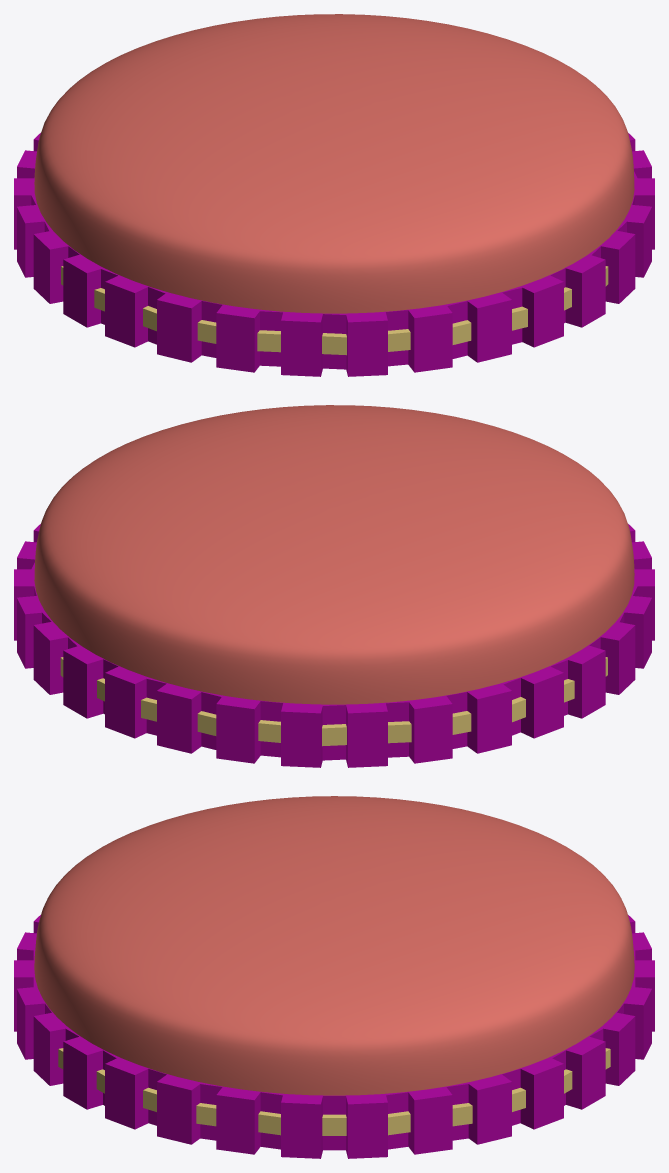
File: br-m-port-floor.fbx
3 views of the same model, one above another, from view 1: azimuth 30°, elevation 25°; view 2: azimuth 150°, elevation 25°; view 3: azimuth 270°, elevation 25° (orthographic).
Parts seen in each view (by area): view 1: bubbledoor, portfloor; view 2: bubbledoor, portfloor; view 3: bubbledoor, portfloor.
Part boxes in pixels (x1,y1,x2,y2): bubbledoor: [34, 14, 634, 313]; portfloor: [14, 133, 654, 376]; bubbledoor: [34, 405, 634, 704]; portfloor: [14, 524, 654, 767]; bubbledoor: [34, 796, 634, 1095]; portfloor: [14, 915, 654, 1158].
Bounding box in the file's own units: 200 × 49.16 × 200.
